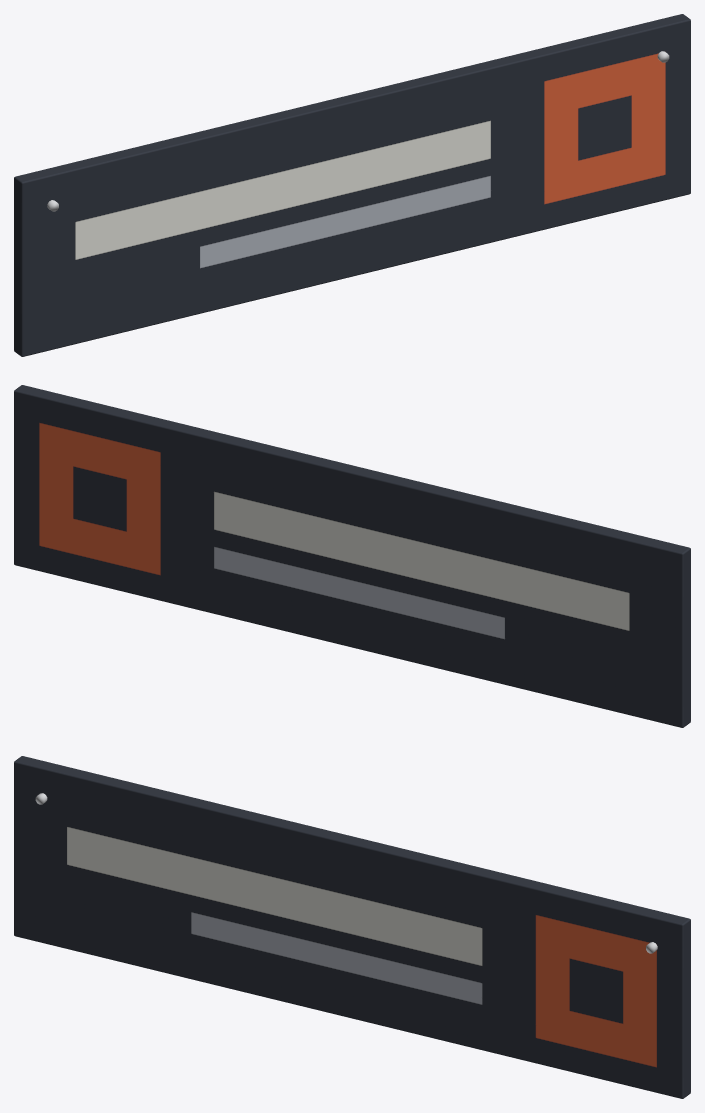
Rendered from trabajo.letrero_grande.fbx.
The picture shows the model from 3 angles, top to bottom: view 1: azimuth 30°, elevation 25°; view 2: azimuth 150°, elevation 25°; view 3: azimuth 330°, elevation 25°; orthographic projection.
Parts seen in each view (by area): view 1: Letrero; view 2: Letrero; view 3: Letrero.
Boxes of the visible parts, x1,y1,x2,y2 form: Letrero: (14, 14, 690, 356); Letrero: (14, 385, 690, 727); Letrero: (14, 756, 690, 1098).
Size of the model in its own units: 1.8 by 0.45 by 0.055.
3 materials, 1 textured.
